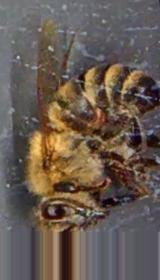varroa_mite: (86, 104, 109, 126)
